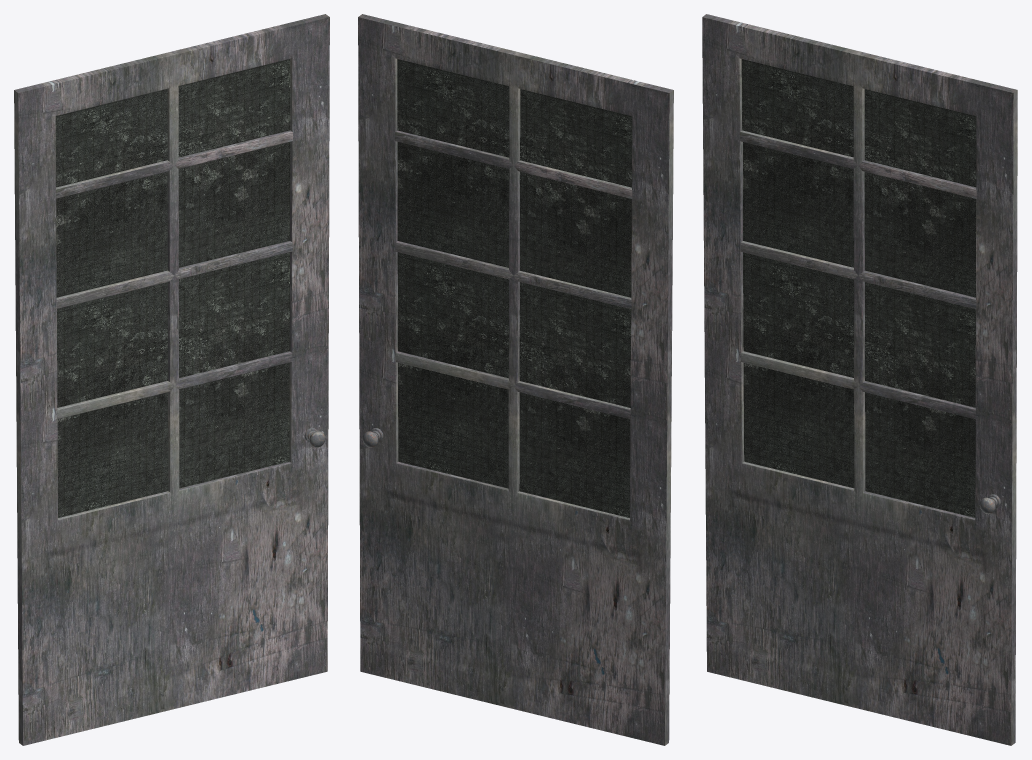
The model's file is WoodenDoor.FBX.
3 renders of one model, left to right at view 1: azimuth 30°, elevation 25°; view 2: azimuth 150°, elevation 25°; view 3: azimuth 330°, elevation 25°, orthographic.
Parts seen in each view (by area): view 1: Door; view 2: Door; view 3: Door.
Boxes of the visible parts, box(x1,y1,x2,y2) form: Door: box(14, 14, 329, 745); Door: box(358, 14, 673, 745); Door: box(702, 14, 1017, 745).
Size of the model in its own units: 32.68 by 65.56 by 4.24.
